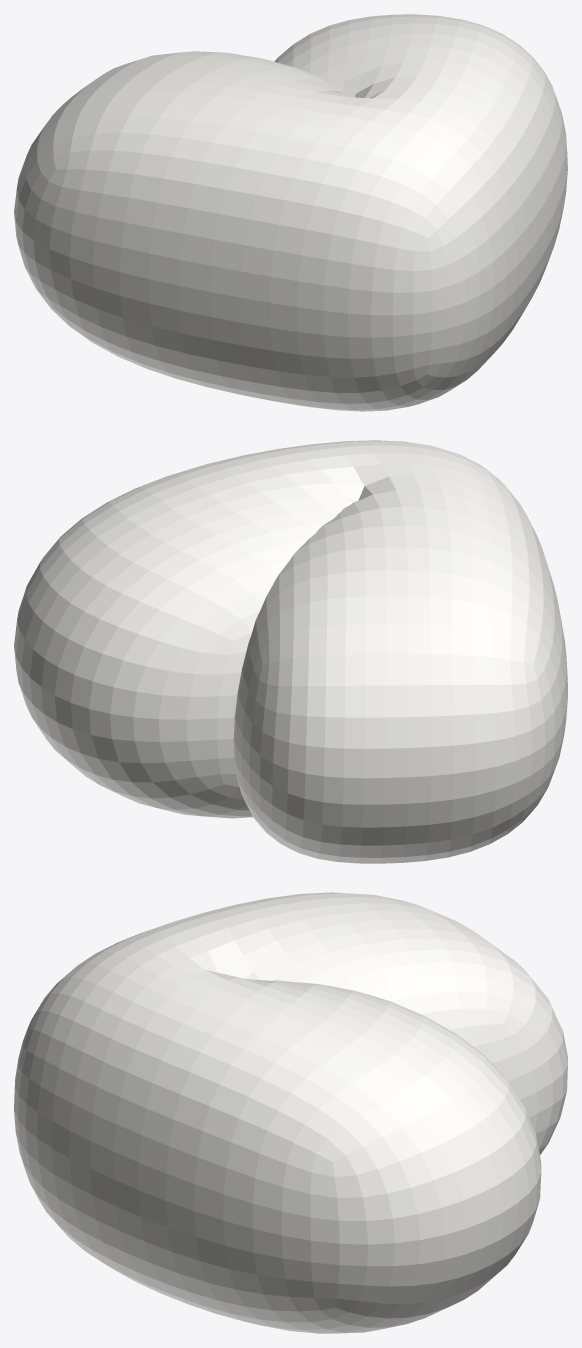
File: im_barking_hearts.fbx
3 renders of one model, top to bottom at view 1: azimuth 30°, elevation 25°; view 2: azimuth 150°, elevation 25°; view 3: azimuth 270°, elevation 25°, orthographic. The views are drawn at different scales.
Parts seen in each view (by area): view 1: Cube.001; view 2: Cube.001; view 3: Cube.001.
Part boxes in pixels (<box>): Cube.001: <box>14,14,567,411</box>; Cube.001: <box>14,440,567,863</box>; Cube.001: <box>14,892,567,1333</box>.
Size of the model in its own units: 876 by 492 by 787.
